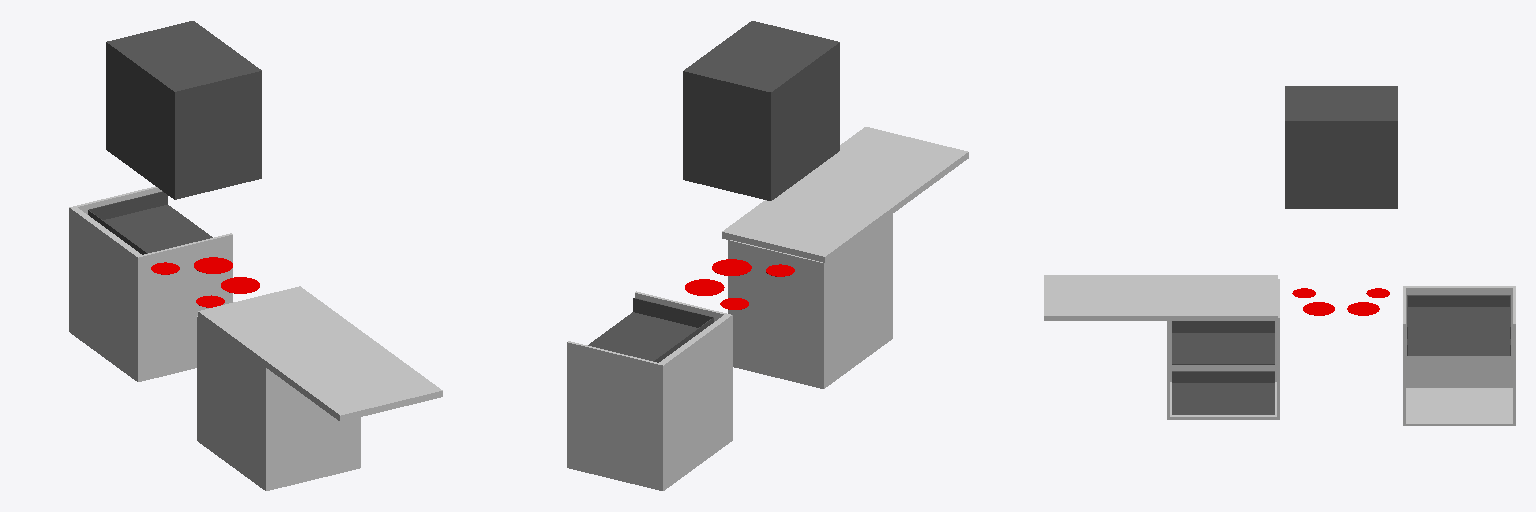
--- Facts derived from the render (not from the file) ---
The picture shows the robot from 3 angles, left to right: view 1: azimuth 30°, elevation 25°; view 2: azimuth 150°, elevation 25°; view 3: azimuth 270°, elevation 25°; orthographic projection.
Model kitchen_part_right with 53 links and 52 joints (6 revolute, 4 prismatic, 42 fixed), rooted at world, posed every joint at zero.
Visible links, largest first — view 1: extractor_hood, indigo_tmp, hitman_tmp, hitman_countertop, indigo_drawer_top, front_left_stove, front_right_stove; view 2: extractor_hood, indigo_tmp, hitman_tmp, hitman_countertop, indigo_drawer_top, front_left_stove, front_right_stove; view 3: extractor_hood, hitman_countertop, indigo_tmp, indigo_drawer_top, hitman_drawer_top, hitman_drawer_bottom, hitman_tmp, indigo_drawer_bottom.
Boxes of the visible links, x1=… form: extractor_hood: x1=106, y1=21, x2=261, y2=199; indigo_tmp: x1=69, y1=186, x2=232, y2=381; hitman_tmp: x1=197, y1=316, x2=360, y2=490; hitman_countertop: x1=198, y1=286, x2=442, y2=421; indigo_drawer_top: x1=88, y1=191, x2=212, y2=254; front_left_stove: x1=221, y1=277, x2=259, y2=293; front_right_stove: x1=194, y1=257, x2=232, y2=273; extractor_hood: x1=683, y1=21, x2=839, y2=200; indigo_tmp: x1=567, y1=291, x2=732, y2=490; hitman_tmp: x1=728, y1=214, x2=892, y2=388; hitman_countertop: x1=722, y1=127, x2=968, y2=262; indigo_drawer_top: x1=588, y1=298, x2=713, y2=362; front_left_stove: x1=712, y1=259, x2=751, y2=275; front_right_stove: x1=685, y1=279, x2=724, y2=295; extractor_hood: x1=1285, y1=86, x2=1397, y2=208; hitman_countertop: x1=1044, y1=275, x2=1277, y2=320; indigo_tmp: x1=1403, y1=286, x2=1515, y2=425; indigo_drawer_top: x1=1407, y1=295, x2=1510, y2=338; hitman_drawer_top: x1=1172, y1=321, x2=1274, y2=364; hitman_drawer_bottom: x1=1172, y1=371, x2=1274, y2=414; hitman_tmp: x1=1167, y1=279, x2=1279, y2=419; indigo_drawer_bottom: x1=1407, y1=339, x2=1510, y2=355.
Size in the robot's own frame: 0.8355 by 3.18 by 2.15 metres.
Meshes: 12 distinct files referenced, 0 mesh visuals loaded (none loaded); not drawn: 25 (reference not matched to a file when rendering).

robot.urdf — kitchen_part_right:
<?xml version="1.0" ?>
<!-- =================================================================================== -->
<!-- |    This document was autogenerated by xacro from kitchen_part_right.urdf.xacro  | -->
<!-- |    EDITING THIS FILE BY HAND IS NOT RECOMMENDED                                 | -->
<!-- =================================================================================== -->
<robot name="kitchen_part_right" xmlns:xacro="http://www.ros.org/wiki/xacro">
  <link name="world"/>
  <joint name="sektion_to_parent" type="fixed">
    <origin rpy="0 0 0" xyz="0 0 0"/>
    <parent link="world"/>
    <child link="sektion"/>
  </joint>
  <material name="White">
    <color rgba="0.85 0.85 0.85 1.0"/>
  </material>
  <material name="Grey">
    <color rgba="0.4 0.4 0.4 1.0"/>
  </material>
  <material name="Red">
    <color rgba="1.0 0 0 1.0"/>
  </material>
  <!-- Wall -->
  <joint name="wall_transform" type="fixed">
    <parent link="sektion"/>
    <child link="walls"/>
    <origin rpy="0 0 0" xyz="0 0 0"/>
  </joint>
  <link name="walls">
    <inertial>
      <origin rpy="0 0 0" xyz="0 0 0"/>
      <mass value="10.0"/>
      <inertia ixx="0.0001" ixy="0" ixz="0" iyy="0.0001" iyz="0" izz="0.0001"/>
    </inertial>
    <visual name="sektion_visual">
      <origin rpy="0  0  0" xyz="0  0  0"/>
      <geometry>
        <mesh filename="../meshes/obj/walls.obj" scale="1.0 1.0 1.0"/>
      </geometry>
      <material name="White"/>
    </visual>
    <collision>
      <geometry>
        <mesh filename="../meshes/obj/walls.obj" scale="1.0 1.0 1.0"/>
      </geometry>
    </collision>
  </link>
  <!--joint name="left_wall_transform" type="fixed">
    <parent link="sektion"/>
    <child link="left_walls"/>
    <origin rpy="0 0 0" xyz="-0.431675 -2.065 0.025"/>
  </joint>
  <link name="left_walls">
    <inertial>
      <origin rpy="0 0 0" xyz="0 0 0"/>
      <mass value="10.0"/>
      <inertia ixx="0.0001" ixy="0" ixz="0" iyy="0.0001" iyz="0" izz="0.0001"/>
    </inertial>
    <visual name="sektion_visual">
      <geometry>
        <box size="0.13 4.13 2.75"/>
      </geometry>
      <material name="White"/>
    </visual>
    <collision>
      <geometry>
        <box size="0.13 4.0 2.75"/>
      </geometry>
    </collision>
  </link>
  <joint name="left_transform" type="fixed">
    <parent link="sektion"/>
    <child link="left"/>
    <origin rpy="0 0 0" xyz="0.091789 -4.065 0.025"/>
  </joint>
  <link name="left">
    <inertial>
      <origin rpy="0 0 0" xyz="0 0 0"/>
      <mass value="10.0"/>
      <inertia ixx="0.0001" ixy="0" ixz="0" iyy="0.0001" iyz="0" izz="0.0001"/>
    </inertial>
    <visual name="sektion_visual">
      <geometry>
        <box size="0.9144 0.13 2.75"/>
      </geometry>
      <material name="White"/>
    </visual>
    <collision>
      <geometry>
        <box size="0.9144 0.13 2.75"/>
      </geometry>
    </collision>
  </link-->
  <!-- Extractor Hood -->
  <joint name="extractor_hood_transform" type="fixed">
    <parent link="sektion"/>
    <child link="extractor_hood"/>
    <!--origin rpy="0 0 0" xyz="-0.14 0.415 0.37"/-->
    <origin rpy="0 0 0" xyz="-0.21 0.415 0.47"/>
  </joint>
  <link name="extractor_hood">
    <visual>
      <geometry>
        <!--box size="0.5 0.76 0.6"/-->
        <box size="0.56 0.76 0.66"/>
      </geometry>
      <material name="Grey"/>
    </visual>
    <collision>
      <geometry>
        <!--box size="0.5 0.76 0.6"/-->
        <box size="0.56 0.76 0.66"/>
      </geometry>
    </collision>
  </link>

  <!-- Range -->
  <joint name="range_transform" type="fixed">
    <parent link="sektion"/>
    <child link="range"/>
    <origin rpy="0 0 0" xyz="0 0.415 -1.015"/>
  </joint>

  <link name="range">
    <!-- <visual>
      <geometry>
        <box size="0.71 0.76 0.92"/>
      </geometry>
      <material name="White"/>
    </visual>
    <collision>
      <geometry>
        <box size="0.71 0.76 0.92"/>
      </geometry>
    </collision> -->
  </link>

  <joint name="front_left_stove_transform" type="fixed">
    <parent link="range"/>
    <child link="front_left_stove"/>
    <origin rpy="0 0 0" xyz="0.065 -0.15 0.41"/>
  </joint>
  <link name="front_left_stove">
    <visual>
      <geometry>
        <cylinder radius="0.11" length="0.001" />
      </geometry>
      <material name="Red"/>
    </visual>
    <collision>
      <geometry>
        <cylinder radius="0.15" length="0.001" />
      </geometry>
    </collision>
  </link>
  <joint name="front_right_stove_transform" type="fixed">
    <parent link="range"/>
    <child link="front_right_stove"/>
    <origin rpy="0 0 0" xyz="0.065 0.15 0.41"/>
  </joint>
  <link name="front_right_stove">
    <visual>
      <geometry>
        <cylinder radius="0.11" length="0.001" />
      </geometry>
      <material name="Red"/>
    </visual>
    <collision>
      <geometry>
        <cylinder radius="0.15" length="0.001" />
      </geometry>
    </collision>
  </link>

  <joint name="back_left_stove_transform" type="fixed">
    <parent link="range"/>
    <child link="back_left_stove"/>
    <origin rpy="0 0 0" xyz="-0.185 -0.25 0.41"/>
  </joint>
  <link name="back_left_stove">
    <visual>
      <geometry>
        <cylinder radius="0.08" length="0.001" />
      </geometry>
      <material name="Red"/>
    </visual>
    <collision>
      <geometry>
        <cylinder radius="0.08" length="0.001" />
      </geometry>
    </collision>
  </link>
  <joint name="back_right_stove_transform" type="fixed">
    <parent link="range"/>
    <child link="back_right_stove"/>
    <origin rpy="0 0 0" xyz="-0.185 0.25 0.41"/>
  </joint>
  <link name="back_right_stove">
    <visual>
      <geometry>
        <cylinder radius="0.08" length="0.001" />
      </geometry>
      <material name="Red"/>
    </visual>
    <collision>
      <geometry>
        <cylinder radius="0.08" length="0.001" />
      </geometry>
    </collision>
  </link>

  <joint name="control_panel_transform" type="fixed">
    <parent link="range"/>
    <child link="control_panel"/>
    <origin rpy="0 0 0" xyz="0.2525 0 0.412"/>
  </joint>
  <link name="control_panel">
    <!-- <visual>
      <geometry>
        <box size="0.125 0.76 0.004"/>
      </geometry>
      <material name="Grey"/>
    </visual>
    <collision>
      <geometry>
        <box size="0.125 0.76 0.004"/>
      </geometry>
    </collision> -->
  </link>

  <!-- <joint name="back_left_knob_transform" type="fixed">
    <parent link="control_panel"/>
    <child link="back_left_knob"/>
    <origin rpy="0 0 0" xyz="0 -0.25 0.0127"/>
  </joint>
  <link name="back_left_knob">
    <visual>
      <geometry>
        <cylinder radius="0.025" length="0.025" />
      </geometry>
      <material name="White"/>
    </visual>
    <collision>
      <geometry>
        <cylinder radius="0.025" length="0.025" />
      </geometry>
    </collision>
  </link>
  <joint name="front_left_knob_transform" type="fixed">
    <parent link="control_panel"/>
    <child link="front_left_knob"/>
    <origin rpy="0 0 0" xyz="0 -0.1 0.0127"/>
  </joint>
  <link name="front_left_knob">
    <visual>
      <geometry>
        <cylinder radius="0.025" length="0.025" />
      </geometry>
      <material name="White"/>
    </visual>
    <collision>
      <geometry>
        <cylinder radius="0.025" length="0.025" />
      </geometry>
    </collision>
  </link>

  <joint name="back_right_knob_transform" type="fixed">
    <parent link="control_panel"/>
    <child link="back_right_knob"/>
    <origin rpy="0 0 0" xyz="0 0.25 0.0127"/>
  </joint>
  <link name="back_right_knob">
    <visual>
      <geometry>
        <cylinder radius="0.025" length="0.025" />
      </geometry>
      <material name="White"/>
    </visual>
    <collision>
      <geometry>
        <cylinder radius="0.025" length="0.025" />
      </geometry>
    </collision>
  </link>
  <joint name="front_right_knob_transform" type="fixed">
    <parent link="control_panel"/>
    <child link="front_right_knob"/>
    <origin rpy="0 0 0" xyz="0 0.1 0.0127"/>
  </joint>
  <link name="front_right_knob">
    <visual>
      <geometry>
        <cylinder radius="0.025" length="0.025" />
      </geometry>
      <material name="White"/>
    </visual>
    <collision>
      <geometry>
        <cylinder radius="0.025" length="0.025" />
      </geometry>
    </collision>
  </link> -->

  <!--
      Width of a single corpus:  13.5inch + 1.5inch = 15inch = 38.1cm
      -->
  <link name="sektion">
    <inertial>
      <origin rpy="0 0 0" xyz="0 0 0"/>
      <mass value="10.0"/>
      <inertia ixx="0.0001" ixy="0" ixz="0" iyy="0.0001" iyz="0" izz="0.0001"/>
    </inertial>
    <visual name="sektion_visual">
      <origin rpy="0  0  0" xyz="0  0  0"/>
      <geometry>
        <mesh filename="../meshes/obj/sektion_top_three_new3_two.obj" scale="1.0 1.0 1.0"/>
      </geometry>
      <material name="White"/>
    </visual>
    <collision>
      <geometry>
        <mesh filename="../meshes/obj/sektion_top_three_new3_two.obj" scale="1.0 1.0 1.0"/>
      </geometry>
    </collision>
  </link>

  <!-- Baker (single hanging drawer in the center) -->
  <!-- <joint name="baker_joint_fixed" type="fixed">
    <parent link="sektion"/>
    <child link="baker_anchor_link"/>
    <origin rpy="0 0 3.14159265359" xyz="0.3 -0.762 -0.3"/>
  </joint>
  <link name="baker_anchor_link"/>
  <joint name="baker_joint" type="revolute">
    <parent link="baker_anchor_link"/>
    <child link="baker_link_tmp"/>
    <origin rpy="0 0 0" xyz="0 0 0"/>
    <axis xyz="0 0 1"/>
    <limit effort="1000.0" lower="0" upper="1.57" velocity="0.1"/>
  </joint>
  <link name="baker_link_tmp"/>
  <joint name="baker_joint_fixed_2" type="fixed">
    <parent link="baker_link_tmp"/>
    <child link="baker_link"/>
    <origin rpy="0 0 0" xyz="-0.01 0.19 0.38"/>
  </joint>
  <link name="baker_link">
    <inertial>
      <origin rpy="0 0 0" xyz="0 0 0"/>
      <mass value="1.0"/>
      <inertia ixx="0.0001" ixy="0" ixz="0" iyy="0.0001" iyz="0" izz="0.0001"/>
    </inertial>
    <visual name="baker_visual">
      <origin rpy="0 0 0" xyz="0 0 0"/>
      <geometry>
        <mesh filename="../meshes/obj/front_vertical_right.obj" scale="1.0 1.0 1.0"/>
      </geometry>
      <material name="Grey"/>
    </visual>
    <collision>
      <geometry>
        <mesh filename="../meshes/obj/front_vertical_right.obj" scale="1.0 1.0 1.0"/>
      </geometry>
    </collision>
  </link>
  <joint name="baker_handle_transform" type="fixed">
    <parent link="baker_link_tmp"/>
    <child link="baker_handle"/>
    <origin rpy="0 0 0" xyz="-0.05905 0.33 0.13"/>
    <axis xyz="0 0 1"/>
  </joint>
  <link name="baker_handle">
    <inertial>
      <origin rpy="0 0 0" xyz="0 0 0"/>
      <mass value="1.0"/>
      <inertia ixx="0.0001" ixy="0" ixz="0" iyy="0.0001" iyz="0" izz="0.0001"/>
    </inertial>
    <visual name="baker_visual">
      <origin rpy="0  0  0" xyz="0  0  0"/>
      <geometry>
        <mesh filename="../meshes/obj/handle_new.obj" scale="1.0 1.0 1.0"/>
      </geometry>
      <material name="White"/>
    </visual>
    <collision>
      <geometry>
        <mesh filename="../meshes/obj/handle_new.obj" scale="1.0 1.0 1.0"/>
      </geometry>
    </collision>
  </link> -->

  <!-- Chewie (Right Door) -->
  <joint name="chewie_door_right_joint_fixed" type="fixed">
    <parent link="sektion"/>
    <child link="chewie_door_right_anchor_link"/>
    <origin rpy="0 0 3.14159265359" xyz="0.3 0 -0.3"/>
  </joint>
  <link name="chewie_door_right_anchor_link"/>
  <joint name="chewie_door_right_joint" type="revolute">
    <parent link="chewie_door_right_anchor_link"/>
    <child link="chewie_door_right_link_tmp"/>
    <origin rpy="0 0 0" xyz="0 0 0"/>
    <axis xyz="0 0 1"/>
    <limit effort="1000.0" lower="0" upper="2.34" velocity="0.1"/>
  </joint>
  <link name="chewie_door_right_link_tmp"/>
  <joint name="chewie_door_right_joint_fixed_2" type="fixed">
    <parent link="chewie_door_right_link_tmp"/>
    <child link="chewie_door_right_link"/>
    <origin rpy="0 0 0" xyz="-0.01 0.19 0.38"/>
  </joint>
  <link name="chewie_door_right_link">
    <inertial>
      <origin rpy="0 0 0" xyz="0 0 0"/>
      <mass value="1.0"/>
      <inertia ixx="0.0001" ixy="0" ixz="0" iyy="0.0001" iyz="0" izz="0.0001"/>
    </inertial>
    <visual name="chewie_door_right_visual">
      <origin rpy="0 0 0" xyz="0 0 0"/>
      <geometry>
        <mesh filename="../meshes/obj/front_vertical_right.obj" scale="1.0 1.0 1.0"/>
      </geometry>
      <material name="Grey"/>
    </visual>
    <collision>
      <geometry>
        <mesh filename="../meshes/obj/front_vertical_right.obj" scale="1.0 1.0 1.0"/>
      </geometry>
    </collision>
  </link>
  <joint name="chewie_door_right_handle_transform" type="fixed">
    <parent link="chewie_door_right_link_tmp"/>
    <child link="chewie_door_right_handle"/>
    <origin rpy="0 0 0" xyz="-0.05905 0.33 0.13"/>
    <axis xyz="0 0 1"/>
  </joint>
  <link name="chewie_door_right_handle">
    <inertial>
      <origin rpy="0 0 0" xyz="0 0 0"/>
      <mass value="1.0"/>
      <inertia ixx="0.0001" ixy="0" ixz="0" iyy="0.0001" iyz="0" izz="0.0001"/>
    </inertial>
    <visual name="chewie_door_right_handle_visual">
      <origin rpy="0  0  0" xyz="0  0  0"/>
      <geometry>
        <mesh filename="../meshes/obj/handle_new.obj" scale="1.0 1.0 1.0"/>
      </geometry>
      <material name="White"/>
    </visual>
    <collision>
      <geometry>
        <mesh filename="../meshes/obj/handle_new.obj" scale="1.0 1.0 1.0"/>
      </geometry>
    </collision>
  </link>
  <!-- Middle Door -->
  <joint name="chewie_door_left_joint_fixed" type="fixed">
    <parent link="sektion"/>
    <child link="chewie_door_left_anchor_link"/>
    <origin rpy="0 0 3.14159265359" xyz="0.3 -0.762 -0.3"/>
  </joint>
  <link name="chewie_door_left_anchor_link"/>
  <joint name="chewie_door_left_joint" type="revolute">
    <parent link="chewie_door_left_anchor_link"/>
    <child link="chewie_door_left_link_tmp"/>
    <origin rpy="0 0 0" xyz="0 0 0"/>
    <axis xyz="0 0 1"/>
    <limit effort="1000.0" lower="-2.34" upper="0" velocity="0.1"/>
  </joint>
  <link name="chewie_door_left_link_tmp"/>
  <joint name="chewie_door_left_joint_fixed_2" type="fixed">
    <parent link="chewie_door_left_link_tmp"/>
    <child link="chewie_door_left_link"/>
    <origin rpy="0 0 0" xyz="-0.01 -0.19 0.38"/>
  </joint>
  <link name="chewie_door_left_link">
    <inertial>
      <origin rpy="0 0 0" xyz="0 0 0"/>
      <mass value="1.0"/>
      <inertia ixx="0.0001" ixy="0" ixz="0" iyy="0.0001" iyz="0" izz="0.0001"/>
    </inertial>
    <visual name="chewie_door_left_visual">
      <origin rpy="0 0 0" xyz="0 0 0"/>
      <geometry>
        <mesh filename="../meshes/obj/front_vertical_left.obj" scale="1.0 1.0 1.0"/>
      </geometry>
      <material name="Grey"/>
    </visual>
    <collision>
      <geometry>
        <mesh filename="../meshes/obj/front_vertical_left.obj" scale="1.0 1.0 1.0"/>
      </geometry>
    </collision>
  </link>
  <joint name="chewie_door_left_handle_transform" type="fixed">
    <parent link="chewie_door_left_link_tmp"/>
    <child link="chewie_door_left_handle"/>
    <origin rpy="0 0 0" xyz="-0.05905 -0.33 0.13"/>
    <axis xyz="0 0 1"/>
  </joint>
  <link name="chewie_door_left_handle">
    <inertial>
      <origin rpy="0 0 0" xyz="0 0 0"/>
      <mass value="1.0"/>
      <inertia ixx="0.0001" ixy="0" ixz="0" iyy="0.0001" iyz="0" izz="0.0001"/>
    </inertial>
    <visual name="chewie_door_left_handle_visual">
      <origin rpy="0  0  0" xyz="0  0  0"/>
      <geometry>
        <mesh filename="../meshes/obj/handle_new.obj" scale="1.0 1.0 1.0"/>
      </geometry>
      <material name="White"/>
    </visual>
    <collision>
      <geometry>
        <mesh filename="../meshes/obj/handle_new.obj" scale="1.0 1.0 1.0"/>
      </geometry>
    </collision>
  </link>
  <!-- Dagger (top two-Door-Glass-Cabinet on the right) -->
  <joint name="dagger_transform" type="fixed">
    <parent link="sektion"/>
    <child link="dagger"/>
    <origin rpy="0 0 0" xyz="0 0.83 0"/>
    <axis xyz="0 0 1"/>
  </joint>
  <link name="dagger">
    <inertial>
      <origin rpy="0 0 0" xyz="0 0 0"/>
      <mass value="10.0"/>
      <inertia ixx="0.0001" ixy="0" ixz="0" iyy="0.0001" iyz="0" izz="0.0001"/>
    </inertial>
    <visual name="dagger_visual">
      <origin rpy="0  0  0" xyz="0  0  0"/>
      <geometry>
        <mesh filename="../meshes/obj/sektion_top_two_glass_new.obj" scale="1.0 1.0 1.0"/>
      </geometry>
      <material name="White"/>
    </visual>
    <collision>
      <geometry>
        <mesh filename="../meshes/obj/sektion_top_two_glass_new.obj" scale="1.0 1.0 1.0"/>
      </geometry>
    </collision>
  </link>
  <!-- Left Door -->
  <joint name="dagger_door_left_joint_fixed" type="fixed">
    <parent link="dagger"/>
    <child link="dagger_door_left_anchor_link"/>
    <origin rpy="0 0 3.14159265359" xyz="0 0 0"/>
  </joint>
  <link name="dagger_door_left_anchor_link"/>
  <joint name="dagger_door_left_joint" type="revolute">
    <parent link="dagger_door_left_anchor_link"/>
    <child link="dagger_door_left_link_tmp"/>
    <origin rpy="0 0 0" xyz="0 0 0"/>
    <axis xyz="0 0 1"/>
    <limit effort="1000.0" lower="-1.57" upper="0" velocity="0.1"/>
  </joint>
  <link name="dagger_door_left_link_tmp"/>
  <joint name="dagger_door_left_joint_fixed_2" type="fixed">
    <parent link="dagger_door_left_link_tmp"/>
    <child link="dagger_door_left_link"/>
    <origin rpy="0 0 0" xyz="-0.01 -0.19 0.38"/>
  </joint>
  <link name="dagger_door_left_link">
    <inertial>
      <origin rpy="0 0 0" xyz="0 0 0"/>
      <mass value="1.0"/>
      <inertia ixx="0.0001" ixy="0" ixz="0" iyy="0.0001" iyz="0" izz="0.0001"/>
    </inertial>
    <visual name="dagger_door_left_visual">
      <origin rpy="0 0 0" xyz="0 0 0"/>
      <geometry>
        <mesh filename="../meshes/obj/front_vertical_left.obj" scale="1.0 1.0 1.0"/>
      </geometry>
      <material name="Grey"/>
    </visual>
    <collision>
      <geometry>
        <mesh filename="../meshes/obj/front_vertical_left.obj" scale="1.0 1.0 1.0"/>
      </geometry>
    </collision>
  </link>
  <joint name="dagger_door_left_handle_transform" type="fixed">
    <parent link="dagger_door_left_link_tmp"/>
    <child link="dagger_door_left_handle"/>
    <origin rpy="0 0 0" xyz="-0.05905 -0.33 0.13"/>
    <axis xyz="0 0 1"/>
  </joint>
  <link name="dagger_door_left_handle">
    <inertial>
      <origin rpy="0 0 0" xyz="0 0 0"/>
      <mass value="1.0"/>
      <inertia ixx="0.0001" ixy="0" ixz="0" iyy="0.0001" iyz="0" izz="0.0001"/>
    </inertial>
    <visual name="dagger_door_left_handle_visual">
      <origin rpy="0  0  0" xyz="0  0  0"/>
      <geometry>
        <mesh filename="../meshes/obj/handle_new.obj" scale="1.0 1.0 1.0"/>
      </geometry>
      <material name="White"/>
    </visual>
    <collision>
      <geometry>
        <mesh filename="../meshes/obj/handle_new.obj" scale="1.0 1.0 1.0"/>
      </geometry>
    </collision>
  </link>
  <!-- Right Door -->
  <joint name="dagger_door_right_joint_fixed" type="fixed">
    <parent link="dagger"/>
    <child link="dagger_door_right_anchor_link"/>
    <origin rpy="0 0 3.14159265359" xyz="0 0.762 0"/>
  </joint>
  <link name="dagger_door_right_anchor_link"/>
  <joint name="dagger_door_right_joint" type="revolute">
    <parent link="dagger_door_right_anchor_link"/>
    <child link="dagger_door_right_link_tmp"/>
    <origin rpy="0 0 0" xyz="0 0 0"/>
    <axis xyz="0 0 1"/>
    <limit effort="1000.0" lower="0" upper="1.57" velocity="0.1"/>
  </joint>
  <link name="dagger_door_right_link_tmp"/>
  <joint name="dagger_door_right_joint_fixed_2" type="fixed">
    <parent link="dagger_door_right_link_tmp"/>
    <child link="dagger_door_right_link"/>
    <origin rpy="0 0 0" xyz="-0.01 0.19 0.38"/>
  </joint>
  <link name="dagger_door_right_link">
    <inertial>
      <origin rpy="0 0 0" xyz="0 0 0"/>
      <mass value="1.0"/>
      <inertia ixx="0.0001" ixy="0" ixz="0" iyy="0.0001" iyz="0" izz="0.0001"/>
    </inertial>
    <visual name="dagger_door_right_visual">
      <origin rpy="0 0 0" xyz="0 0 0"/>
      <geometry>
        <mesh filename="../meshes/obj/front_vertical_right.obj" scale="1.0 1.0 1.0"/>
      </geometry>
      <material name="Grey"/>
    </visual>
    <collision>
      <geometry>
        <mesh filename="../meshes/obj/front_vertical_right.obj" scale="1.0 1.0 1.0"/>
      </geometry>
    </collision>
  </link>
  <joint name="dagger_door_right_handle_transform" type="fixed">
    <parent link="dagger_door_right_link_tmp"/>
    <child link="dagger_door_right_handle"/>
    <origin rpy="0 0 0" xyz="-0.05905 0.33 0.13"/>
    <axis xyz="0 0 1"/>
  </joint>
  <link name="dagger_door_right_handle">
    <inertial>
      <origin rpy="0 0 0" xyz="0 0 0"/>
      <mass value="1.0"/>
      <inertia ixx="0.0001" ixy="0" ixz="0" iyy="0.0001" iyz="0" izz="0.0001"/>
    </inertial>
    <visual name="dagger_door_right_handle_visual">
      <origin rpy="0  0  0" xyz="0  0  0"/>
      <geometry>
        <mesh filename="../meshes/obj/handle_new.obj" scale="1.0 1.0 1.0"/>
      </geometry>
      <material name="White"/>
    </visual>
    <collision>
      <geometry>
        <mesh filename="../meshes/obj/handle_new.obj" scale="1.0 1.0 1.0"/>
      </geometry>
    </collision>
  </link>
  <!-- Hitman (Bottom Cabinet Left of Range) -->
  <joint name="hitman_transform" type="fixed">
    <parent link="sektion"/>
    <child link="hitman_tmp"/>
    <origin rpy="0 0 0" xyz="0 0 -0.55"/>
    <axis xyz="0 0 1"/>
  </joint>
  <link name="hitman_tmp">
    <inertial>
      <origin rpy="0 0 0" xyz="0 0 0"/>
      <mass value="10.0"/>
      <inertia ixx="0.0001" ixy="0" ixz="0" iyy="0.0001" iyz="0" izz="0.0001"/>
    </inertial>
    <!-- Sektion.001 -->
    <visual>
      <origin rpy="0  0  0" xyz="-0.346  -0.381  -0.4175"/>
      <geometry>
        <box size="0.04   0.762  0.763"/>
      </geometry>
      <material name="White"/>
    </visual>
    <visual>
      <origin rpy="0  0  0" xyz="-0.061  -0.7525 -0.4175"/>
      <geometry>
        <box size="0.61   0.019  0.763"/>
      </geometry>
      <material name="White"/>
    </visual>
    <visual>
      <origin rpy="0  0  0" xyz="-0.061  -0.0095 -0.4175"/>
      <geometry>
        <box size="0.61   0.019  0.763"/>
      </geometry>
      <material name="White"/>
    </visual>
    <visual>
      <origin rpy="0  0  0" xyz="-0.061  -0.381  -0.7895"/>
      <geometry>
        <box size="0.61   0.762  0.019"/>
      </geometry>
      <material name="White"/>
    </visual>
    <!-- TODO: top box -->
    <visual name="hitman_visual">
      <origin rpy="0  0  0" xyz="0  0  0"/>
      <geometry>
        <mesh filename="../meshes/obj/sektion_bottom_two_drawers.obj" scale="1.0 1.3 1.0"/>
      </geometry>
      <material name="White"/>
    </visual>

    <collision>
      <origin rpy="0  0  0" xyz="-0.346  -0.381  -0.4175"/>
      <geometry>
        <box size="0.04   0.762  0.763"/>
      </geometry>
    </collision>
    <collision>
      <origin rpy="0  0  0" xyz="-0.061  -0.7525 -0.4175"/>
      <geometry>
        <box size="0.61   0.019  0.763"/>
      </geometry>
    </collision>
    <collision>
      <origin rpy="0  0  0" xyz="-0.061  -0.0095 -0.4175"/>
      <geometry>
        <box size="0.61   0.019  0.763"/>
      </geometry>
    </collision>
    <collision>
      <origin rpy="0  0  0" xyz="-0.061  -0.381  -0.7895"/>
      <geometry>
        <box size="0.61   0.762  0.019"/>
      </geometry>
    </collision>
    <!-- TODO: top box -->
    <collision>
      <origin rpy="0  0  0" xyz="0  0  0"/>
      <geometry>
        <mesh filename="../meshes/obj/sektion_bottom_two_drawers.obj" scale="1.0 1.0 1.0"/>
      </geometry>
    </collision>
  </link>
  <joint name="hitman_countertop_transform" type="fixed">
    <parent link="hitman_tmp"/>
    <child link="hitman_countertop"/>
    <origin rpy="0 0 0" xyz="-0.04 -0.8 -0.02"/>
    <axis xyz="0 0 1"/>
  </joint>
  <link name="hitman_countertop">
    <!-- Use this for debugging purposes
    -->
    <visual>
      <geometry>
        <box size="0.655 1.58 0.04"/>
      </geometry>
      <material name="White"/>
    </visual>
    <collision>
      <geometry>
        <box size="0.655 1.58 0.04"/>
      </geometry>
    </collision>
  </link>
  <joint name="hitman_transform_2" type="fixed">
    <parent link="hitman_tmp"/>
    <child link="hitman"/>
    <origin rpy="0 0 0" xyz="-0.06 -0.381 -0.4215"/>
    <axis xyz="0 0 1"/>
  </joint>
  <link name="hitman"/>
  <joint name="hitman_drawer_top_joint" type="prismatic">
    <parent link="hitman"/>
    <child link="hitman_drawer_top"/>
    <origin rpy="0 0 0" xyz="0.04 0 0.085"/>
    <axis xyz="1 0 0"/>
    <limit effort="1000.0" lower="0.0" upper="0.4" velocity="0.1"/>
  </joint>
  <link name="hitman_drawer_top">
    <inertial>
      <origin rpy="0 0 0" xyz="0 0 0"/>
      <mass value="1.0"/>
      <inertia ixx="0.0001" ixy="0" ixz="0" iyy="0.0001" iyz="0" izz="0.0001"/>
    </inertial>
    <!-- Drawer -->
    <visual>
      <origin rpy="0  0  0" xyz="0.013 -0.347 -0.004"/>
      <geometry>
        <box size="0.512  0.004  0.086"/>
      </geometry>
      <material name="Grey"/>
    </visual>
    <visual>
      <origin rpy="0  0  0" xyz="0.013   0.3475 -0.004"/>
      <geometry>
        <box size="0.512  0.005  0.086"/>
      </geometry>
      <material name="Grey"/>
    </visual>
    <visual>
      <origin rpy="0  0  0" xyz="-0.2405  0.0005 -0.004"/>
      <geometry>
        <box size="0.005  0.699  0.086"/>
      </geometry>
      <material name="Grey"/>
    </visual>
    <visual>
      <origin rpy="0  0  0" xyz="0.013   0.0005 -0.0465"/>
      <geometry>
        <box size="0.512  0.699  0.001"/>
      </geometry>
      <material name="Grey"/>
    </visual>
    <visual name="hitman_drawer_top_visual">
      <origin rpy="0  0  0" xyz="0  0  0"/>
      <geometry>
        <mesh filename="../meshes/obj/drawer_large.obj" scale="1.0 1.0 1.0"/>
      </geometry>
      <material name="Grey"/>
    </visual>
    <collision>
      <origin rpy="0  0  0" xyz="0.013 -0.347 -0.004"/>
      <geometry>
        <box size="0.512  0.004  0.086"/>
      </geometry>
    </collision>
    <collision>
      <origin rpy="0  0  0" xyz="0.013   0.3475 -0.004"/>
      <geometry>
        <box size="0.512  0.005  0.086"/>
      </geometry>
    </collision>
    <collision>
      <origin rpy="0  0  0" xyz="-0.2405  0.0005 -0.004"/>
      <geometry>
        <box size="0.005  0.699  0.086"/>
      </geometry>
    </collision>
    <collision>
      <origin rpy="0  0  0" xyz="0.013   0.0005 -0.0465"/>
      <geometry>
        <box size="0.512  0.699  0.001"/>
      </geometry>
    </collision>
    <collision>
      <origin rpy="0  0  0" xyz="0  0  0"/>
      <geometry>
        <mesh filename="../meshes/obj/drawer_large.obj" scale="1.0 1.0 1.0"/>
      </geometry>
    </collision>
  </link>
  <joint name="hitman_joint_fixed_top_front" type="fixed">
    <parent link="hitman_drawer_top"/>
    <child link="hitman_drawer_top_front"/>
    <origin rpy="0 0 0" xyz="0.28 0 0.10"/>
    <axis xyz="0 0 1"/>
  </joint>
  <link name="hitman_drawer_top_front"/>
  <joint name="hitman_drawer_handle_top_joint" type="fixed">
    <parent link="hitman_drawer_top"/>
    <child link="hitman_drawer_handle_top"/>
    <origin rpy="1.57079632679 0 0" xyz="0.32 0 0.255"/>
    <axis xyz="1 0 0"/>
    <limit effort="1000.0" lower="0.0" upper="0.4" velocity="0.1"/>
  </joint>
  <link name="hitman_drawer_handle_top">
    <inertial>
      <origin rpy="0 0 0" xyz="0 0 0"/>
      <mass value="1.0"/>
      <inertia ixx="0.0001" ixy="0" ixz="0" iyy="0.0001" iyz="0" izz="0.0001"/>
    </inertial>
    <visual name="hitman_drawer_top_visual">
      <origin rpy="0  0  0" xyz="0.03  0  0"/>
      <geometry>
        <mesh filename="../meshes/obj/handle.obj" scale="1.0 1.0 1.0"/>
      </geometry>
      <material name="White"/>
    </visual>
    <collision>
      <origin rpy="0  0  0" xyz="0.03  0  0"/>
      <geometry>
        <mesh filename="../meshes/obj/handle.obj" scale="1.0 1.0 1.0"/>
      </geometry>
    </collision>
  </link>
  <joint name="hitman_drawer_bottom_joint" type="prismatic">
    <parent link="hitman"/>
    <child link="hitman_drawer_bottom"/>
    <origin rpy="0 0 0" xyz="0.04 0 -0.291"/>
    <axis xyz="1 0 0"/>
    <limit effort="1000.0" lower="0.0" upper="0.4" velocity="0.1"/>
  </joint>
  <link name="hitman_drawer_bottom">
    <inertial>
      <origin rpy="0 0 0" xyz="0 0 0"/>
      <mass value="1.0"/>
      <inertia ixx="0.0001" ixy="0" ixz="0" iyy="0.0001" iyz="0" izz="0.0001"/>
    </inertial>
    <!-- Drawer -->
    <visual>
      <origin rpy="0  0  0" xyz="0.013 -0.347 -0.004"/>
      <geometry>
        <box size="0.512  0.004  0.086"/>
      </geometry>
      <material name="Grey"/>
    </visual>
    <visual>
      <origin rpy="0  0  0" xyz="0.013   0.3475 -0.004"/>
      <geometry>
        <box size="0.512  0.005  0.086"/>
      </geometry>
      <material name="Grey"/>
    </visual>
    <visual>
      <origin rpy="0  0  0" xyz="-0.2405  0.0005 -0.004"/>
      <geometry>
        <box size="0.005  0.699  0.086"/>
      </geometry>
      <material name="Grey"/>
    </visual>
    <visual>
      <origin rpy="0  0  0" xyz="0.013   0.0005 -0.0465"/>
      <geometry>
        <box size="0.512  0.699  0.001"/>
      </geometry>
      <material name="Grey"/>
    </visual>
    <visual name="hitman_drawer_top_visual">
      <origin rpy="0  0  0" xyz="0  0  0"/>
      <geometry>
        <mesh filename="../meshes/obj/drawer_large.obj" scale="1.0 1.0 1.0"/>
      </geometry>
      <material name="Grey"/>
    </visual>
    <collision>
      <origin rpy="0  0  0" xyz="0.013 -0.347 -0.004"/>
      <geometry>
        <box size="0.512  0.004  0.086"/>
      </geometry>
    </collision>
    <collision>
      <origin rpy="0  0  0" xyz="0.013   0.3475 -0.004"/>
      <geometry>
        <box size="0.512  0.005  0.086"/>
      </geometry>
    </collision>
    <collision>
      <origin rpy="0  0  0" xyz="-0.2405  0.0005 -0.004"/>
      <geometry>
        <box size="0.005  0.699  0.086"/>
      </geometry>
    </collision>
    <collision>
      <origin rpy="0  0  0" xyz="0.013   0.0005 -0.0465"/>
      <geometry>
        <box size="0.512  0.699  0.001"/>
      </geometry>
    </collision>
    <collision>
      <origin rpy="0  0  0" xyz="0  0  0"/>
      <geometry>
        <mesh filename="../meshes/obj/drawer_large.obj" scale="1.0 1.0 1.0"/>
      </geometry>
    </collision>
  </link>
  <joint name="hitman_joint_fixed_bottom_front" type="fixed">
    <parent link="hitman_drawer_bottom"/>
    <child link="hitman_drawer_bottom_front"/>
    <origin rpy="0 0 0" xyz="0.28 0 0.10"/>
    <axis xyz="0 0 1"/>
  </joint>
  <link name="hitman_drawer_bottom_front"/>
  <joint name="hitman_drawer_handle_bottom_joint" type="fixed">
    <parent link="hitman_drawer_bottom"/>
    <child link="hitman_drawer_handle_bottom"/>
    <origin rpy="1.57079632679 0 0" xyz="0.32 0 0.255"/>
    <axis xyz="1 0 0"/>
    <limit effort="1000.0" lower="0.0" upper="0.4" velocity="0.1"/>
  </joint>
  <link name="hitman_drawer_handle_bottom">
    <inertial>
      <origin rpy="0 0 0" xyz="0 0 0"/>
      <mass value="1.0"/>
      <inertia ixx="0.0001" ixy="0" ixz="0" iyy="0.0001" iyz="0" izz="0.0001"/>
    </inertial>
    <visual name="hitman_drawer_bottom_visual">
      <origin rpy="0  0  0" xyz="0  0  0"/>
      <geometry>
        <mesh filename="../meshes/obj/handle.obj" scale="1.0 1.0 1.0"/>
      </geometry>
      <material name="White"/>
    </visual>
    <collision>
      <geometry>
        <mesh filename="../meshes/obj/handle.obj" scale="1.0 1.0 1.0"/>
      </geometry>
    </collision>
  </link>
  <!-- Bottom Cabinet Right of Range (original sektion_cabinet_model) -->
  <joint name="indigo_transform" type="fixed">
    <parent link="sektion"/>
    <child link="indigo_tmp"/>
    <origin rpy="0 0 0" xyz="0.1 0.83 -0.55"/>
    <axis xyz="0 0 1"/>
  </joint>
  <link name="indigo_tmp">
    <inertial>
      <origin rpy="0 0 0" xyz="0 0 0"/>
      <mass value="10.0"/>
      <inertia ixx="0.0001" ixy="0" ixz="0" iyy="0.0001" iyz="0" izz="0.0001"/>
    </inertial>
    <!-- Sektion -->
    <visual>
      <origin rpy="0  0  0" xyz="-0.061   0.0095 -0.4175"/>
      <geometry>
        <box size="0.61   0.019  0.763"/>
      </geometry>
      <material name="White"/>
    </visual>
    <visual>
      <origin rpy="0  0  0" xyz="-0.061   0.7525 -0.4175"/>
      <geometry>
        <box size="0.61   0.019  0.763"/>
      </geometry>
      <material name="White"/>
    </visual>
    <visual>
      <origin rpy="0  0  0" xyz="-0.346   0.381  -0.4175"/>
      <geometry>
        <box size="0.04   0.762  0.763"/>
      </geometry>
      <material name="White"/>
    </visual>
    <visual>
      <origin rpy="0  0  0" xyz="-0.061   0.381  -0.7895"/>
      <geometry>
        <box size="0.61   0.762  0.019"/>
      </geometry>
      <material name="White"/>
    </visual>
    <!-- TODO: top box -->
    <visual name="indigo_visual">
      <origin rpy="0  0  0" xyz="-0.07  0  0"/>
      <geometry>
        <mesh filename="../meshes/obj/sektion_bottom_cabinet.obj" scale="1.2 1.0 1.0"/>
      </geometry>
      <material name="White"/>
    </visual>
    <!-- Sektion -->
    <collision>
      <origin rpy="0  0  0" xyz="-0.061   0.0095 -0.4175"/>
      <geometry>
        <box size="0.61   0.019  0.763"/>
      </geometry>
    </collision>
    <collision>
      <origin rpy="0  0  0" xyz="-0.061   0.7525 -0.4175"/>
      <geometry>
        <box size="0.61   0.019  0.763"/>
      </geometry>
    </collision>
    <collision>
      <origin rpy="0  0  0" xyz="-0.346   0.381  -0.4175"/>
      <geometry>
        <box size="0.04   0.762  0.763"/>
      </geometry>
    </collision>
    <collision>
      <origin rpy="0  0  0" xyz="-0.061   0.381  -0.7895"/>
      <geometry>
        <box size="0.61   0.762  0.019"/>
      </geometry>
    </collision>
    <!-- TODO: top box -->
    <collision>
      <origin rpy="0  0  0" xyz="0  0  0"/>
      <geometry>
        <mesh filename="../meshes/obj/sektion_bottom_cabinet.obj" scale="1.0 1.0 1.0"/>
      </geometry>
    </collision>
  </link>
  <joint name="indigo_countertop_transform" type="fixed">
    <parent link="indigo_tmp"/>
    <child link="indigo_countertop"/>
    <origin rpy="0 0 0" xyz="-0.04 0.4175 -0.02"/>
    <axis xyz="0 0 1"/>
  </joint>
  <link name="indigo_countertop">
    <!-- Use this for debugging purposes
        <visual>
          <geometry>
            <box size="0.655 0.835 0.04"/>
          </geometry>
        </visual>
         -->
  </link>
  <joint name="indigo_transform_2" type="fixed">
    <parent link="indigo_tmp"/>
    <child link="indigo"/>
    <origin rpy="0 0 0" xyz="-0.06 0.381 -0.4215"/>
    <axis xyz="0 0 1"/>
  </joint>
  <link name="indigo"/>
  <link name="indigo_drawer_top">
    <inertial>
      <origin rpy="0 0 0" xyz="0 0 0"/>
      <mass value="1.0"/>
      <inertia ixx="0.0001" ixy="0" ixz="0" iyy="0.0001" iyz="0" izz="0.0001"/>
    </inertial>
    <!-- Drawer -->
    <visual>
      <origin rpy="0  0  0" xyz="-0.0015 -0.347  0."/>
      <geometry>
        <box size="0.511  0.004  0.086"/>
      </geometry>
      <material name="Grey"/>
    </visual>
    <visual>
      <origin rpy="0  0  0" xyz="-0.0015  0.3475  0."/>
      <geometry>
        <box size="0.511  0.005  0.086"/>
      </geometry>
      <material name="Grey"/>
    </visual>
    <visual>
      <origin rpy="0  0  0" xyz="-0.255   0.0005  0."/>
      <geometry>
        <box size="0.004  0.699  0.086"/>
      </geometry>
      <material name="Grey"/>
    </visual>
    <visual>
      <origin rpy="0  0  0" xyz="-0.0015  0.0005 -0.0425"/>
      <geometry>
        <box size="0.511  0.699  0.001"/>
      </geometry>
      <material name="Grey"/>
    </visual>
    <visual name="sektion_bottom_drawer_top_visual">
      <origin rpy="0  0  0" xyz="0  0  0"/>
      <geometry>
        <mesh filename="../meshes/obj/drawer.obj" scale="1.0 1.0 1.0"/>
      </geometry>
      <material name="Grey"/>
    </visual>
    <collision>
      <origin rpy="0  0  0" xyz="-0.0015 -0.347  0."/>
      <geometry>
        <box size="0.511  0.004  0.086"/>
      </geometry>
    </collision>
    <collision>
      <origin rpy="0  0  0" xyz="-0.0015  0.3475  0."/>
      <geometry>
        <box size="0.511  0.005  0.086"/>
      </geometry>
    </collision>
    <collision>
      <origin rpy="0  0  0" xyz="-0.255   0.0005  0."/>
      <geometry>
        <box size="0.004  0.699  0.086"/>
      </geometry>
    </collision>
    <collision>
      <origin rpy="0  0  0" xyz="-0.0015  0.0005 -0.0425"/>
      <geometry>
        <box size="0.511  0.699  0.001"/>
      </geometry>
    </collision>
    <collision>
      <origin rpy="0  0  0" xyz="0  0  0"/>
      <geometry>
        <mesh filename="../meshes/obj/drawer.obj" scale="1.0 1.0 1.0"/>
      </geometry>
    </collision>
  </link>
  <link name="indigo_drawer_handle_top">
    <inertial>
      <origin rpy="0 0 0" xyz="0 0 0"/>
      <mass value="1.0"/>
      <inertia ixx="0.0001" ixy="0" ixz="0" iyy="0.0001" iyz="0" izz="0.0001"/>
    </inertial>
    <visual name="sektion_bottom_drawer_handle_top_visual">
      <origin rpy="0  0  0" xyz="0  0  0"/>
      <geometry>
        <mesh filename="../meshes/obj/handle.obj" scale="1.0 1.0 1.0"/>
      </geometry>
      <material name="White"/>
    </visual>
    <collision>
      <geometry>
        <mesh filename="../meshes/obj/handle.obj" scale="1.0 1.0 1.0"/>
      </geometry>
    </collision>
  </link>
  <link name="indigo_drawer_bottom">
    <inertial>
      <origin rpy="0 0 0" xyz="0 0 0"/>
      <mass value="1.0"/>
      <inertia ixx="0.0001" ixy="0" ixz="0" iyy="0.0001" iyz="0" izz="0.0001"/>
    </inertial>
    <!-- Drawer -->
    <visual>
      <origin rpy="0  0  0" xyz="-0.0015 -0.347  0."/>
      <geometry>
        <box size="0.511  0.004  0.086"/>
      </geometry>
      <material name="Grey"/>
    </visual>
    <visual>
      <origin rpy="0  0  0" xyz="-0.0015  0.3475  0."/>
      <geometry>
        <box size="0.511  0.005  0.086"/>
      </geometry>
      <material name="Grey"/>
    </visual>
    <visual>
      <origin rpy="0  0  0" xyz="-0.255   0.0005  0."/>
      <geometry>
        <box size="0.004  0.699  0.086"/>
      </geometry>
      <material name="Grey"/>
    </visual>
    <visual>
      <origin rpy="0  0  0" xyz="-0.0015  0.0005 -0.0425"/>
      <geometry>
        <box size="0.511  0.699  0.001"/>
      </geometry>
      <material name="Grey"/>
    </visual>
    <visual name="sektion_bottom_drawer_bottom_visual">
      <origin rpy="0  0  0" xyz="0  0  0"/>
      <geometry>
        <mesh filename="../meshes/obj/drawer.obj" scale="1.0 1.0 1.0"/>
      </geometry>
      <material name="Grey"/>
    </visual>
    <collision>
      <origin rpy="0  0  0" xyz="-0.0015 -0.347  0."/>
      <geometry>
        <box size="0.511  0.004  0.086"/>
      </geometry>
    </collision>
    <collision>
      <origin rpy="0  0  0" xyz="-0.0015  0.3475  0."/>
      <geometry>
        <box size="0.511  0.005  0.086"/>
      </geometry>
    </collision>
    <collision>
      <origin rpy="0  0  0" xyz="-0.255   0.0005  0."/>
      <geometry>
        <box size="0.004  0.699  0.086"/>
      </geometry>
    </collision>
    <collision>
      <origin rpy="0  0  0" xyz="-0.0015  0.0005 -0.0425"/>
      <geometry>
        <box size="0.511  0.699  0.001"/>
      </geometry>
    </collision>
    <collision>
      <geometry>
        <mesh filename="../meshes/obj/drawer.obj" scale="1.0 1.0 1.0"/>
      </geometry>
    </collision>
  </link>
  <link name="indigo_drawer_handle_bottom">
    <inertial>
      <origin rpy="0 0 0" xyz="0 0 0"/>
      <mass value="1.0"/>
      <inertia ixx="0.0001" ixy="0" ixz="0" iyy="0.0001" iyz="0" izz="0.0001"/>
    </inertial>
    <visual name="indigo_drawer_top_visual">
      <origin rpy="0  0  0" xyz="0  0  0"/>
      <geometry>
        <mesh filename="../meshes/obj/handle.obj" scale="1.0 1.0 1.0"/>
      </geometry>
      <material name="White"/>
    </visual>
    <collision>
      <geometry>
        <mesh filename="../meshes/obj/handle.obj" scale="1.0 1.0 1.0"/>
      </geometry>
    </collision>
  </link>
  <link name="indigo_door_right_anchor_link"/>
  <link name="indigo_door_right_joint_anchor_link"/>
  <link name="indigo_door_right_link">
    <inertial>
      <origin rpy="0 0 0" xyz="0 0 0"/>
      <mass value="1.0"/>
      <inertia ixx="0.0001" ixy="0" ixz="0" iyy="0.0001" iyz="0" izz="0.0001"/>
    </inertial>
    <visual name="indigo_door_right_visual">
      <origin rpy="0  0  0" xyz="0  -0.184706  0"/>
      <geometry>
        <mesh filename="../meshes/obj/front_bottom_vertical_door.obj" scale="1.0 1.0 1.0"/>
      </geometry>
      <material name="Grey"/>
    </visual>
    <collision>
      <origin rpy="0  0  0" xyz="0  -0.184706  0"/>
      <geometry>
        <mesh filename="../meshes/obj/front_bottom_vertical_door.obj" scale="1.0 1.0 1.0"/>
      </geometry>
    </collision>
  </link>
  <link name="indigo_door_right_handle">
    <inertial>
      <origin rpy="0 0 0" xyz="0 0 0"/>
      <mass value="1.0"/>
      <inertia ixx="0.0001" ixy="0" ixz="0" iyy="0.0001" iyz="0" izz="0.0001"/>
    </inertial>
    <visual name="indigo_door_right_nob_visual">
      <origin rpy="0  0  0" xyz="0  -0.184706  0"/>
      <geometry>
        <mesh filename="../meshes/obj/handle.obj" scale="1.0 1.0 1.0"/>
      </geometry>
      <material name="White"/>
    </visual>
    <collision>
      <origin rpy="0  0  0" xyz="0  -0.184706  0"/>
      <geometry>
        <mesh filename="../meshes/obj/handle.obj" scale="1.0 1.0 1.0"/>
      </geometry>
    </collision>
  </link>
  <link name="indigo_door_right"/>
  <link name="indigo_door_left_anchor_link"/>
  <link name="indigo_door_left_joint_anchor_link"/>
  <link name="indigo_door_left_link">
    <inertial>
      <origin rpy="0 0 0" xyz="0 0 0"/>
      <mass value="1.0"/>
      <inertia ixx="0.0001" ixy="0" ixz="0" iyy="0.0001" iyz="0" izz="0.0001"/>
    </inertial>
    <visual name="indigo_door_left_visual">
      <origin rpy="0  0  0" xyz="0  0.184706  0"/>
      <geometry>
        <mesh filename="../meshes/obj/front_bottom_vertical_door.obj" scale="1.0 1.0 1.0"/>
      </geometry>
      <material name="Grey"/>
    </visual>
    <collision>
      <origin rpy="0  0  0" xyz="0  0.184706  0"/>
      <geometry>
        <mesh filename="../meshes/obj/front_bottom_vertical_door.obj" scale="1.0 1.0 1.0"/>
      </geometry>
    </collision>
  </link>
  <link name="indigo_door_left_handle">
    <inertial>
      <origin rpy="0 0 0" xyz="0 0 0"/>
      <mass value="1.0"/>
      <inertia ixx="0.0001" ixy="0" ixz="0" iyy="0.0001" iyz="0" izz="0.0001"/>
    </inertial>
    <visual name="indigo_door_left_nob_visual">
      <origin rpy="0  0  0" xyz="0  0.184706  0"/>
      <geometry>
        <mesh filename="../meshes/obj/handle.obj" scale="1.0 1.0 1.0"/>
      </geometry>
      <material name="White"/>
    </visual>
    <collision>
      <origin rpy="0  0  0" xyz="0  0.184706  0"/>
      <geometry>
        <mesh filename="../meshes/obj/handle.obj" scale="1.0 1.0 1.0"/>
      </geometry>
    </collision>
  </link>
  <link name="indigo_door_left"/>
  <joint name="indigo_door_right_joint_fixed" type="fixed">
    <parent link="indigo"/>
    <child link="indigo_door_right_anchor_link"/>
    <origin rpy="0 0 0" xyz="0.3162 0.3757 -0.12973"/>
  </joint>
  <joint name="indigo_door_right_shift_joint" type="fixed">
    <parent link="indigo_door_right_anchor_link"/>
    <child link="indigo_door_right_joint_anchor_link"/>
    <origin rpy="0 0 0" xyz="0 0 0"/>
    <axis xyz="0 1 0"/>
    <limit effort="1000.0" lower="0" upper="-0.015" velocity="0.0"/>
    <mimic joint="indigo_door_right_joint" multiplier="-0.009554" offset="0"/>
  </joint>
  <joint name="indigo_door_right_joint" type="revolute">
    <parent link="indigo_door_right_joint_anchor_link"/>
    <child link="indigo_door_right_link"/>
    <origin rpy="0 0 0" xyz="0 0 0"/>
    <axis xyz="0 0 1"/>
    <limit effort="1000.0" lower="0" upper="1.57" velocity="0.1"/>
  </joint>
  <joint name="indigo_door_right_transform" type="fixed">
    <parent link="indigo_door_right_link"/>
    <child link="indigo_door_right"/>
    <origin rpy="0 0 0" xyz="0 -.181 0"/>
    <axis xyz="0 0 1"/>
  </joint>
  <joint name="indigo_door_right_nob_transform" type="fixed">
    <parent link="indigo_door_right_link"/>
    <child link="indigo_door_right_handle"/>
    <origin rpy="0 0 0" xyz="0.0515 -0.13 0.1"/>
    <axis xyz="0 0 1"/>
  </joint>
  <joint name="indigo_door_left_joint_fixed" type="fixed">
    <parent link="indigo"/>
    <child link="indigo_door_left_anchor_link"/>
    <origin rpy="0 0 0" xyz="0.3162 -0.3757 -0.12973"/>
  </joint>
  <joint name="indigo_door_left_shift_joint" type="fixed">
    <parent link="indigo_door_left_anchor_link"/>
    <child link="indigo_door_left_joint_anchor_link"/>
    <origin rpy="0 0 0" xyz="0 0 0"/>
    <axis xyz="0 1 0"/>
    <limit effort="1000.0" lower="0" upper="-0.015" velocity="0.0"/>
    <mimic joint="indigo_door_left_joint" multiplier="-0.009554" offset="0"/>
  </joint>
  <joint name="indigo_door_left_joint" type="revolute">
    <parent link="indigo_door_left_joint_anchor_link"/>
    <child link="indigo_door_left_link"/>
    <origin rpy="0 0 0" xyz="0 0 0"/>
    <axis xyz="0 0 1"/>
    <limit effort="1000.0" lower="-1.57" upper="0" velocity="0.1"/>
  </joint>
  <joint name="indigo_door_left_transform" type="fixed">
    <parent link="indigo_door_left_link"/>
    <child link="indigo_door_left"/>
    <origin rpy="0 0 0" xyz="0 .181 0"/>
    <axis xyz="0 0 1"/>
  </joint>
  <joint name="indigo_door_left_nob_transform" type="fixed">
    <parent link="indigo_door_left_link"/>
    <child link="indigo_door_left_handle"/>
    <origin rpy="0 0 0" xyz="0.0515 0.13 0.1"/>
    <axis xyz="0 0 1"/>
  </joint>
  <joint name="indigo_drawer_top_joint" type="prismatic">
    <parent link="indigo"/>
    <child link="indigo_drawer_top"/>
    <origin rpy="0 0 0" xyz="0.0515 0 0.3172"/>
    <axis xyz="1 0 0"/>
    <limit effort="1000.0" lower="0.0" upper="0.4" velocity="0.1"/>
  </joint>
  <joint name="indigo_drawer_handle_top_joint" type="fixed">
    <parent link="indigo_drawer_top"/>
    <child link="indigo_drawer_handle_top"/>
    <origin rpy="1.57079632679 0 0" xyz="0.31 0 0"/>
    <axis xyz="1 0 0"/>
    <limit effort="1000.0" lower="0.0" upper="0.4" velocity="0.1"/>
  </joint>
  <joint name="indigo_drawer_bottom_joint" type="prismatic">
    <parent link="indigo"/>
    <child link="indigo_drawer_bottom"/>
    <origin rpy="0 0 0" xyz="0.0515 0 0.18795"/>
    <axis xyz="1 0 0"/>
    <limit effort="1000.0" lower="0.0" upper="0.4" velocity="0.0"/>
  </joint>
  <joint name="indigo_drawer_handle_bottom_joint" type="fixed">
    <parent link="indigo_drawer_bottom"/>
    <child link="indigo_drawer_handle_bottom"/>
    <origin rpy="1.57079632679 0 0" xyz="0.31 0 0"/>
    <axis xyz="1 0 0"/>
    <limit effort="1000.0" lower="0.0" upper="0.4" velocity="0.1"/>
  </joint>
</robot>
